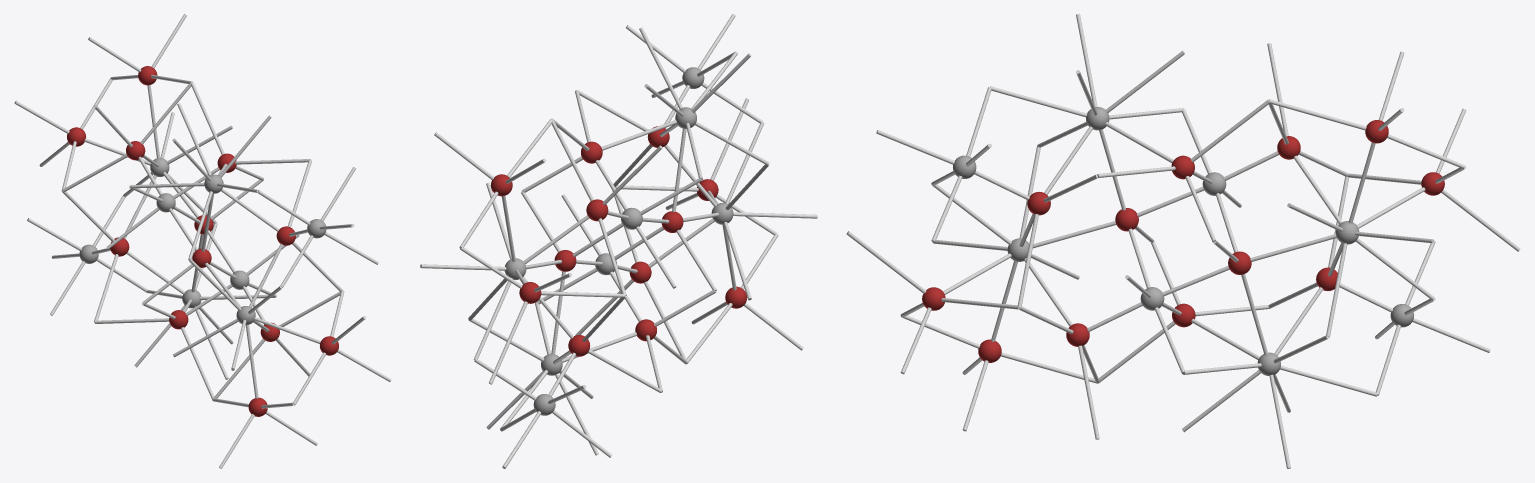
The model's file is structure_mpstyle.glb.
The picture shows the model from 3 angles, left to right: view 1: azimuth 30°, elevation 25°; view 2: azimuth 150°, elevation 25°; view 3: azimuth 270°, elevation 25°; orthographic projection. The views are drawn at different scales.
Visible parts, largest first — view 1: world; view 2: world; view 3: world.
Boxes of the visible parts, x1=… form: world: x1=14, y1=14, x2=391, y2=468; world: x1=420, y1=14, x2=817, y2=468; world: x1=846, y1=14, x2=1520, y2=468.
Bounding box in the file's own units: 7.02 × 13.85 × 22.86.
